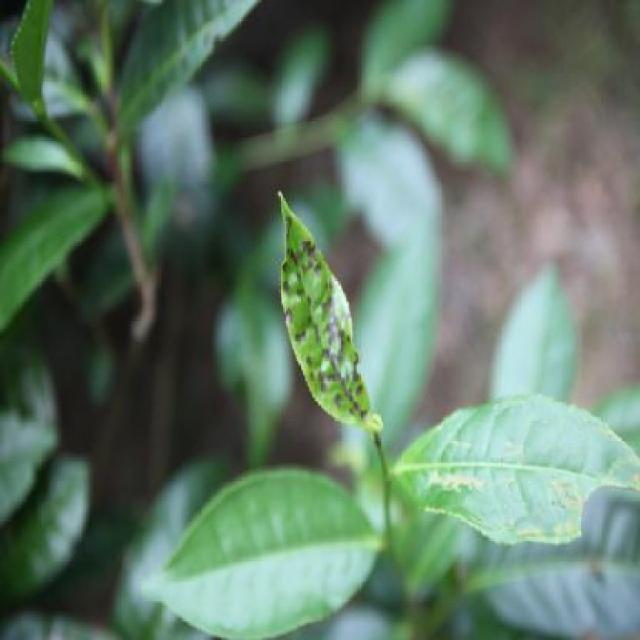Tea Mosquito bug infested leaf: (274, 191, 371, 429)
